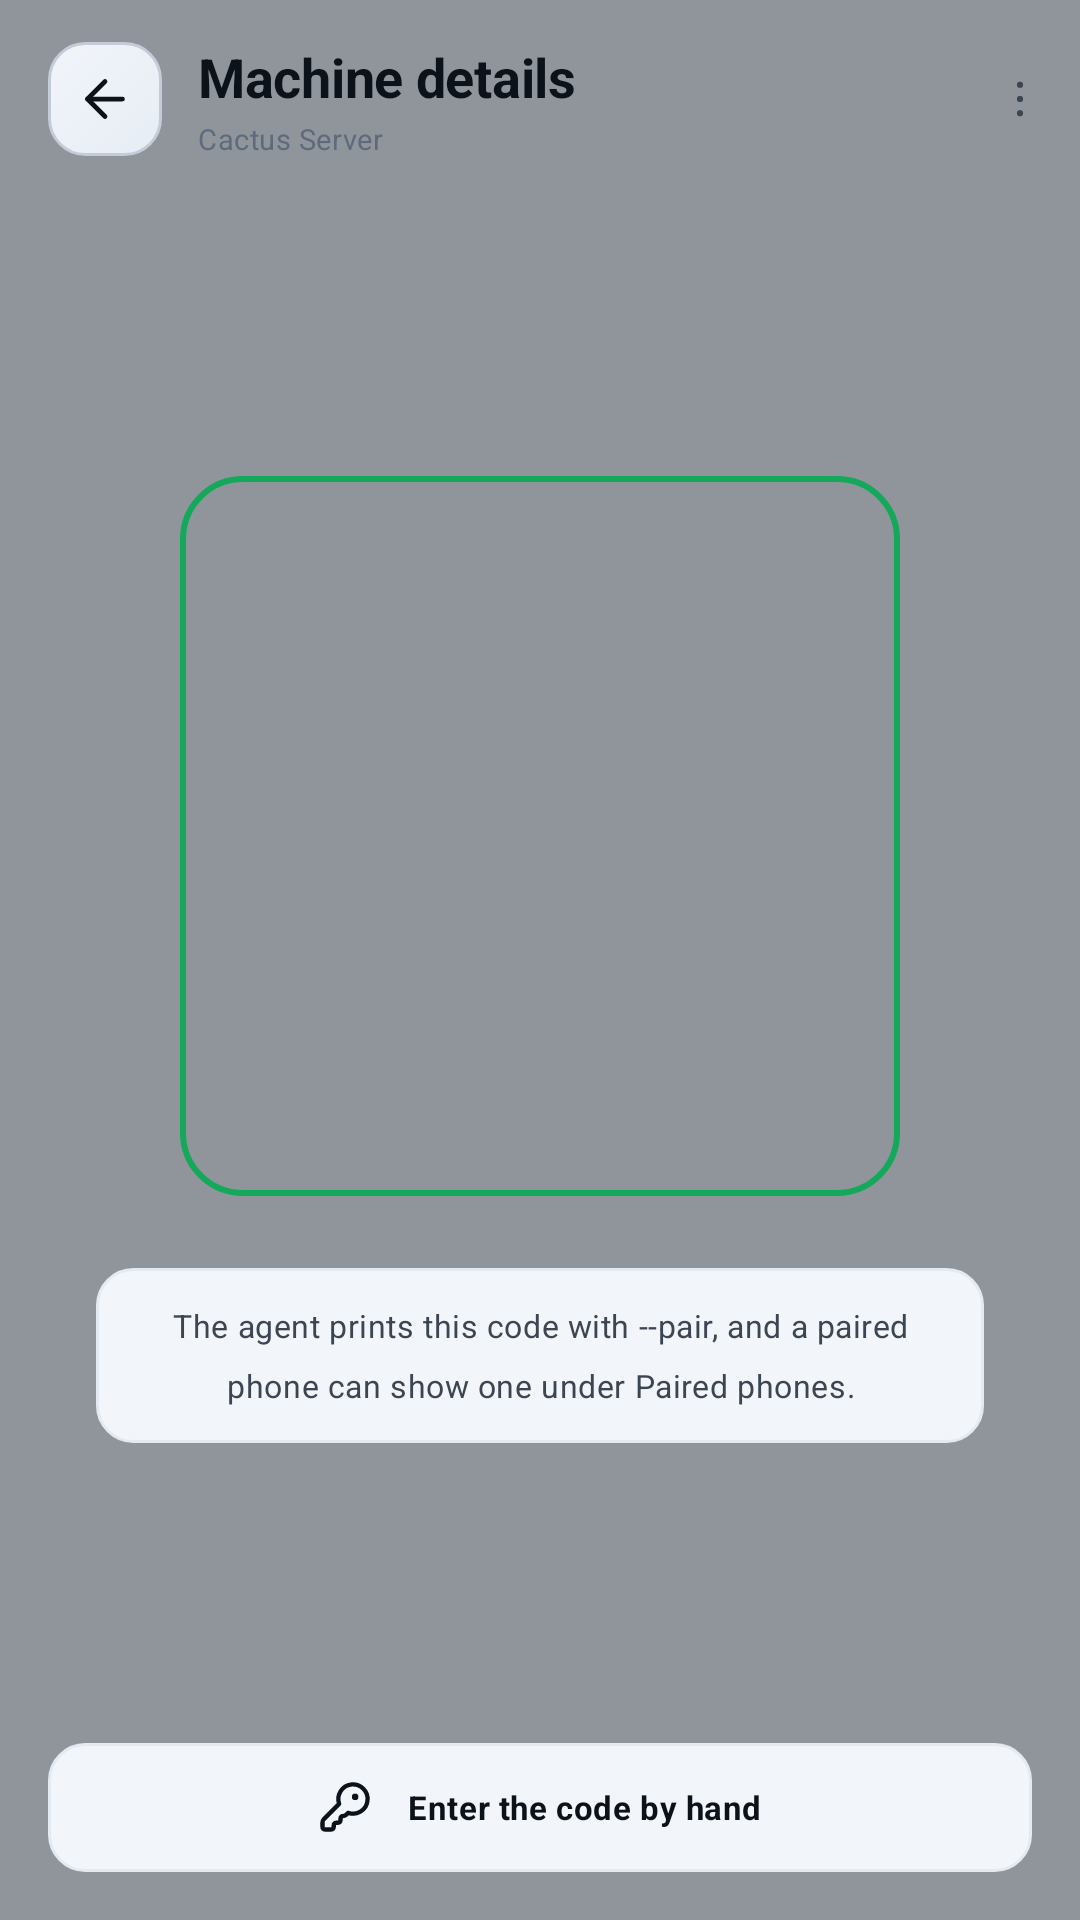

Icons on this 1080px×1920px Android screen, each with its box as (x1, y1, x2, y2):
Back: (48, 42, 162, 156)
key: (320, 1782, 370, 1832)
More: (1017, 82, 1023, 116)
